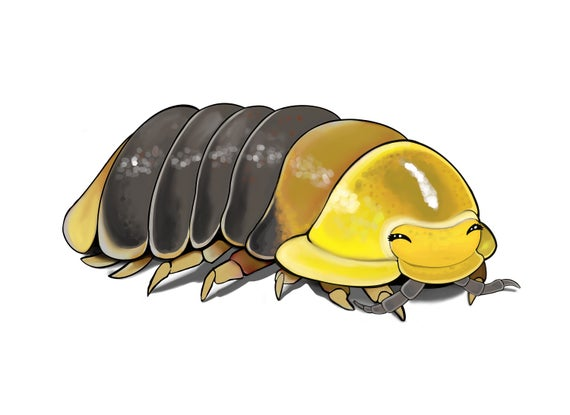Cockroach: (62, 95, 532, 324)
